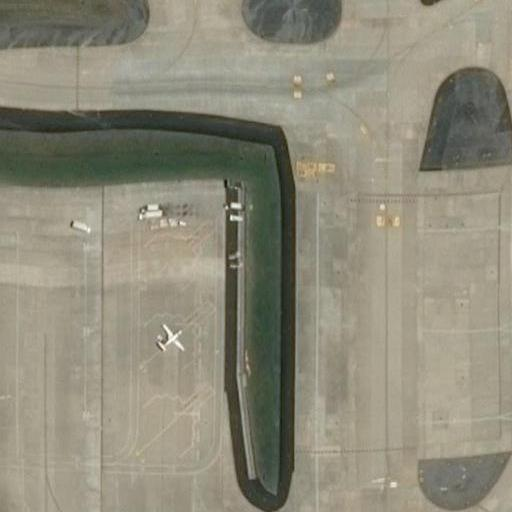Aircraft: (152, 315, 189, 362)
